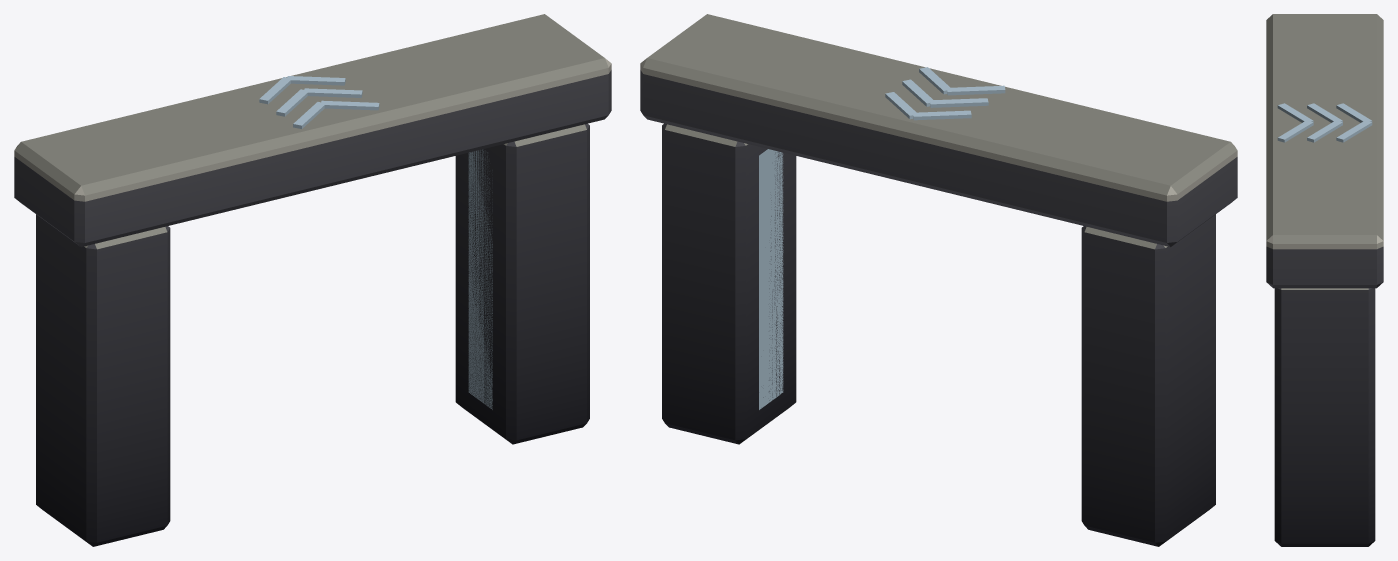
The model's file is wind_gate.glb.
The picture shows the model from 3 angles, left to right: view 1: azimuth 30°, elevation 25°; view 2: azimuth 150°, elevation 25°; view 3: azimuth 270°, elevation 25°; orthographic projection. The views are drawn at different scales.
Visible parts, largest first — view 1: WindGate, WindGate_Inlay; view 2: WindGate, WindGate_Inlay; view 3: WindGate, WindGate_Inlay.
Part boxes in pixels (bbox=[...]): WindGate: bbox=[14, 14, 611, 546]; WindGate_Inlay: bbox=[259, 76, 492, 409]; WindGate: bbox=[640, 14, 1237, 546]; WindGate_Inlay: bbox=[759, 67, 1005, 409]; WindGate: bbox=[1266, 14, 1383, 546]; WindGate_Inlay: bbox=[1277, 103, 1372, 142].
Size of what is drawn, in the model's own units: 6.4 by 4.24 by 1.4.
